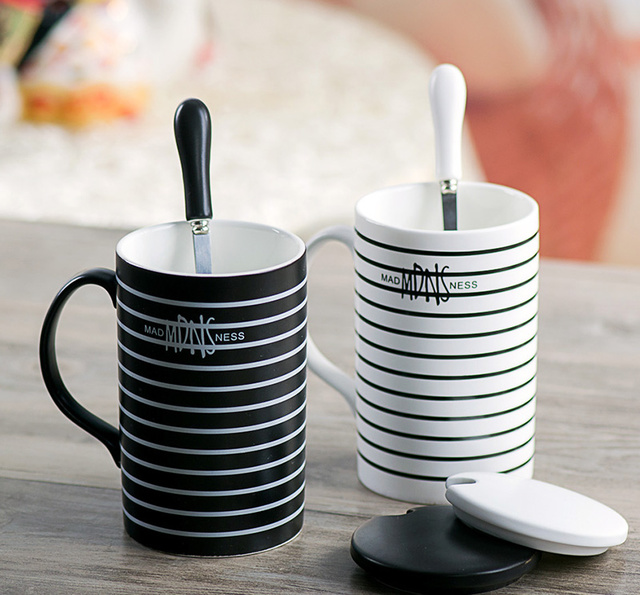cup: (38, 217, 309, 559), (304, 178, 541, 505)
